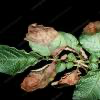Potato leaf late blight: (22, 22, 67, 57), (18, 60, 59, 92), (78, 20, 99, 58), (51, 68, 82, 89)
